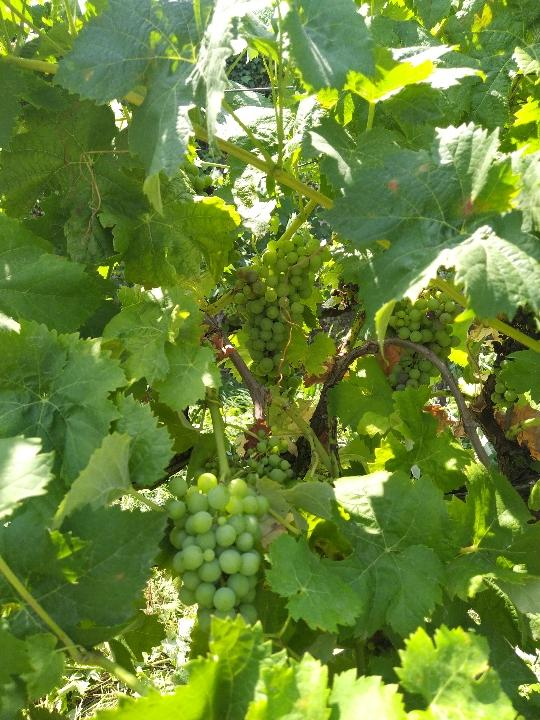grape: (164, 470, 273, 635), (231, 232, 334, 390), (385, 285, 462, 402)
